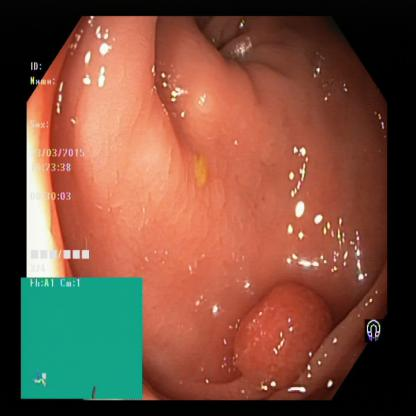Labels: (28, 56, 98, 277), (20, 277, 141, 399), (356, 302, 384, 348)
Polyps: (233, 278, 321, 378)
